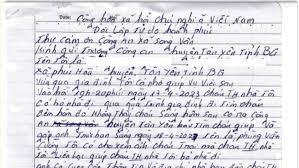text: (33, 43, 280, 61), (35, 129, 281, 144), (35, 118, 278, 133), (35, 85, 276, 100), (34, 97, 265, 112), (76, 10, 256, 29), (35, 108, 270, 122), (33, 64, 225, 80), (36, 140, 277, 152), (35, 32, 195, 50), (35, 150, 223, 165), (33, 76, 234, 90), (35, 159, 280, 168), (92, 23, 212, 39), (34, 54, 85, 69), (59, 14, 72, 20)
